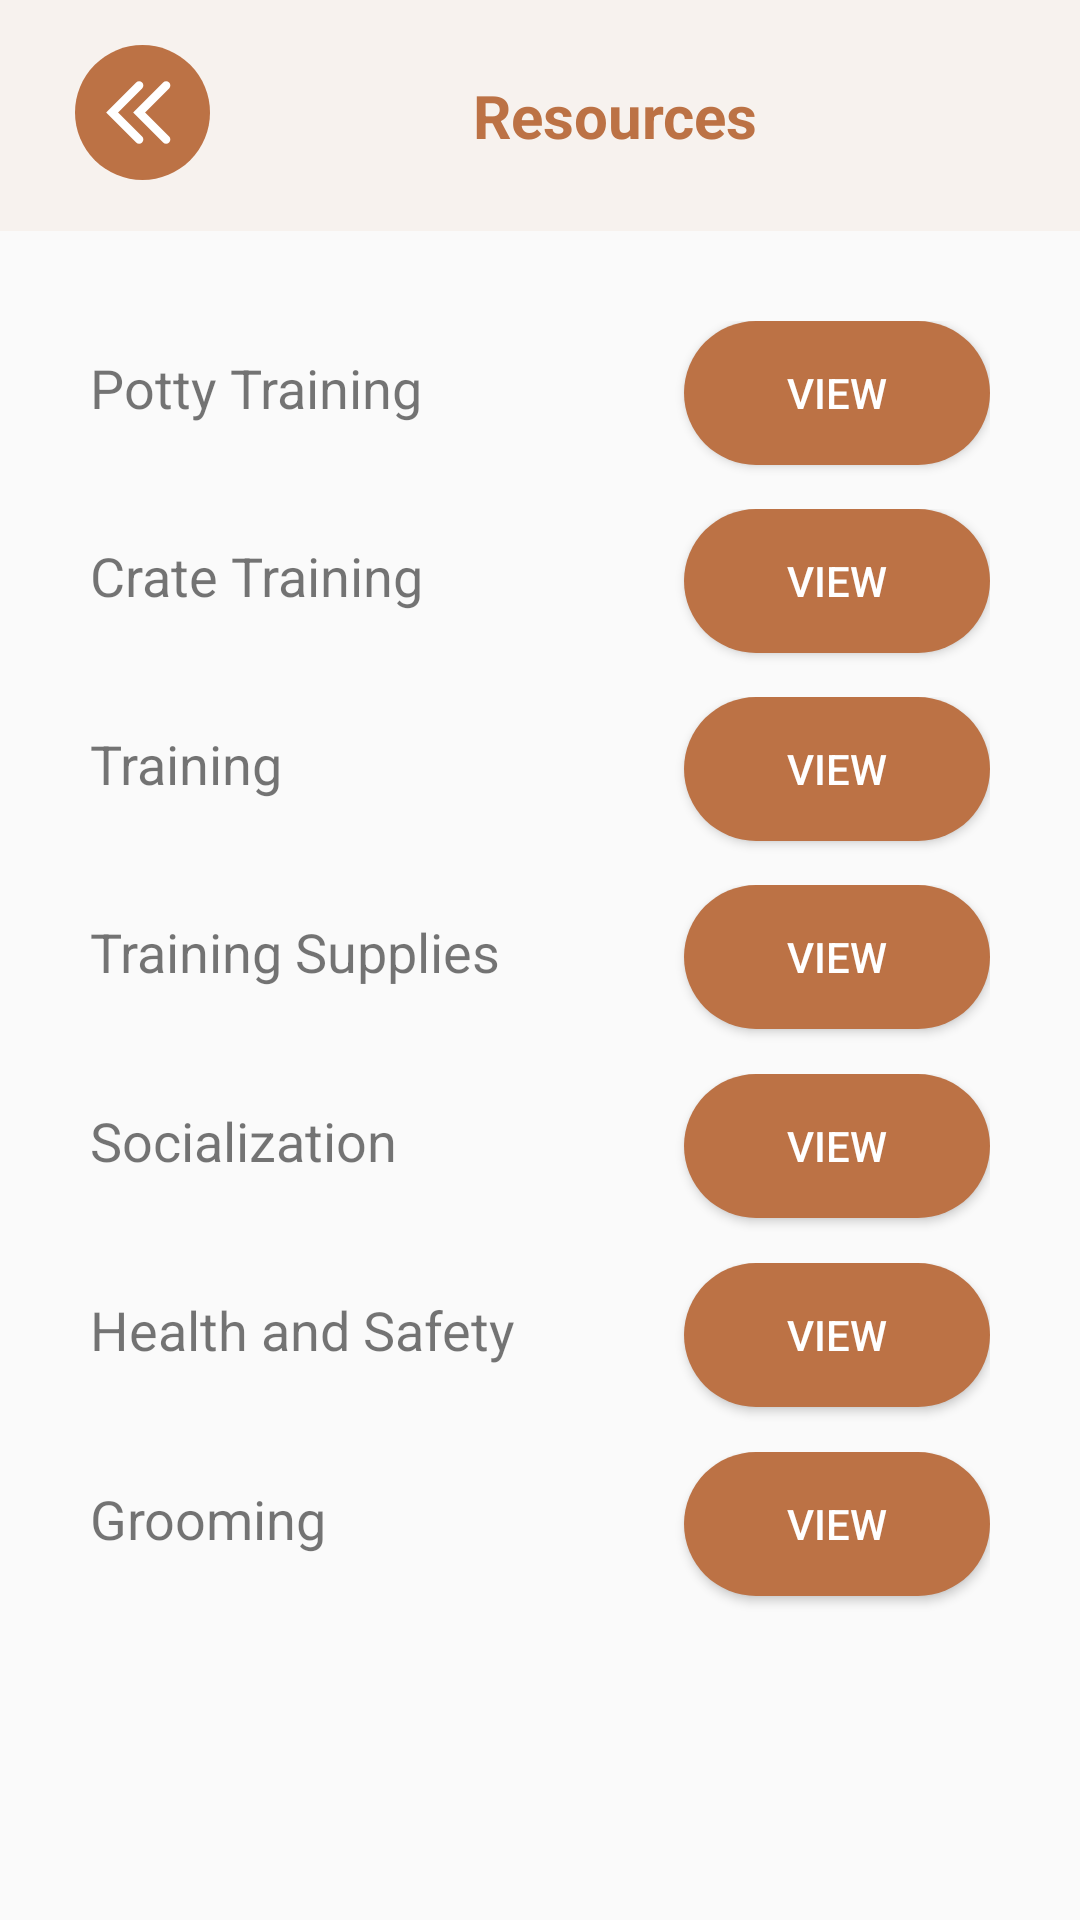

Point at icon controls on the screen. Image size 1080px×1920px, points as (x,y).
back button: (142,112)
